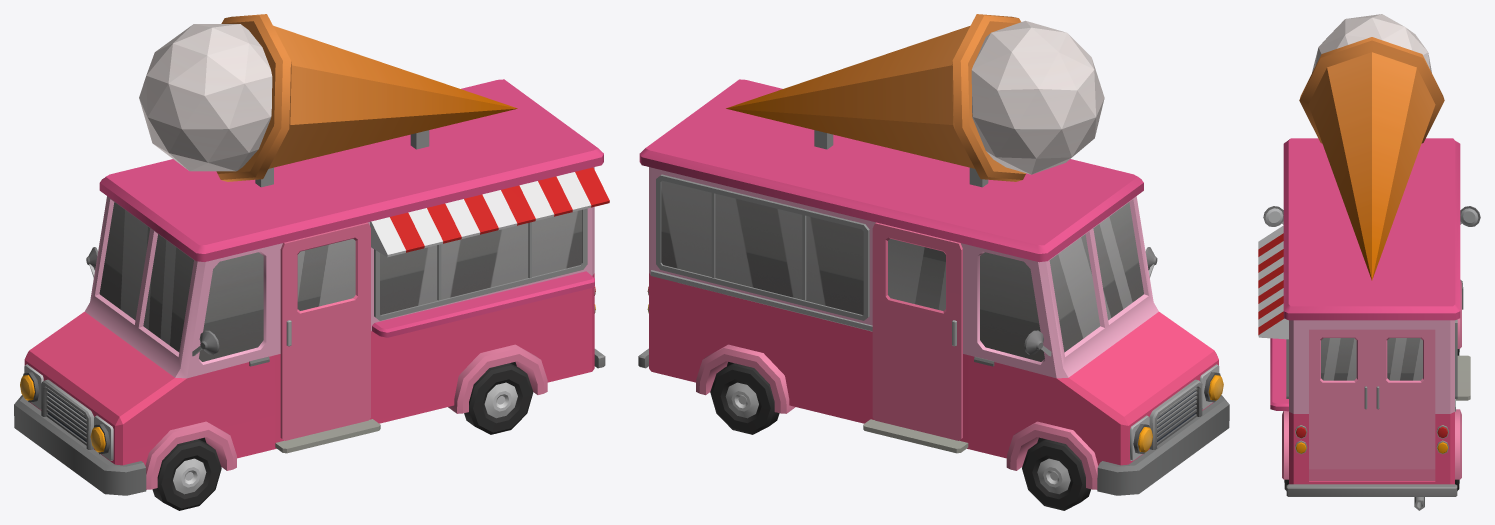
File: IceTruck_1_E.gltf
3 views of the same model, side by side, from view 1: azimuth 30°, elevation 25°; view 2: azimuth 150°, elevation 25°; view 3: azimuth 270°, elevation 25° (orthographic). The views are drawn at different scales.
Parts seen in each view (by area): view 1: IceTruck_1_E, RL, FL; view 2: IceTruck_1_E, RR, FR; view 3: IceTruck_1_E.
Boxes of the visible parts, box(x1,y1,x2,y2) form: IceTruck_1_E: box(14, 14, 609, 495); RL: box(464, 363, 533, 434); FL: box(152, 439, 221, 510); IceTruck_1_E: box(638, 14, 1229, 495); RR: box(710, 363, 779, 434); FR: box(1022, 439, 1090, 510); IceTruck_1_E: box(1258, 14, 1480, 510).
Bounding box in the file's own units: 4.16 × 3.38 × 1.84.
4 materials, 4 textured.
